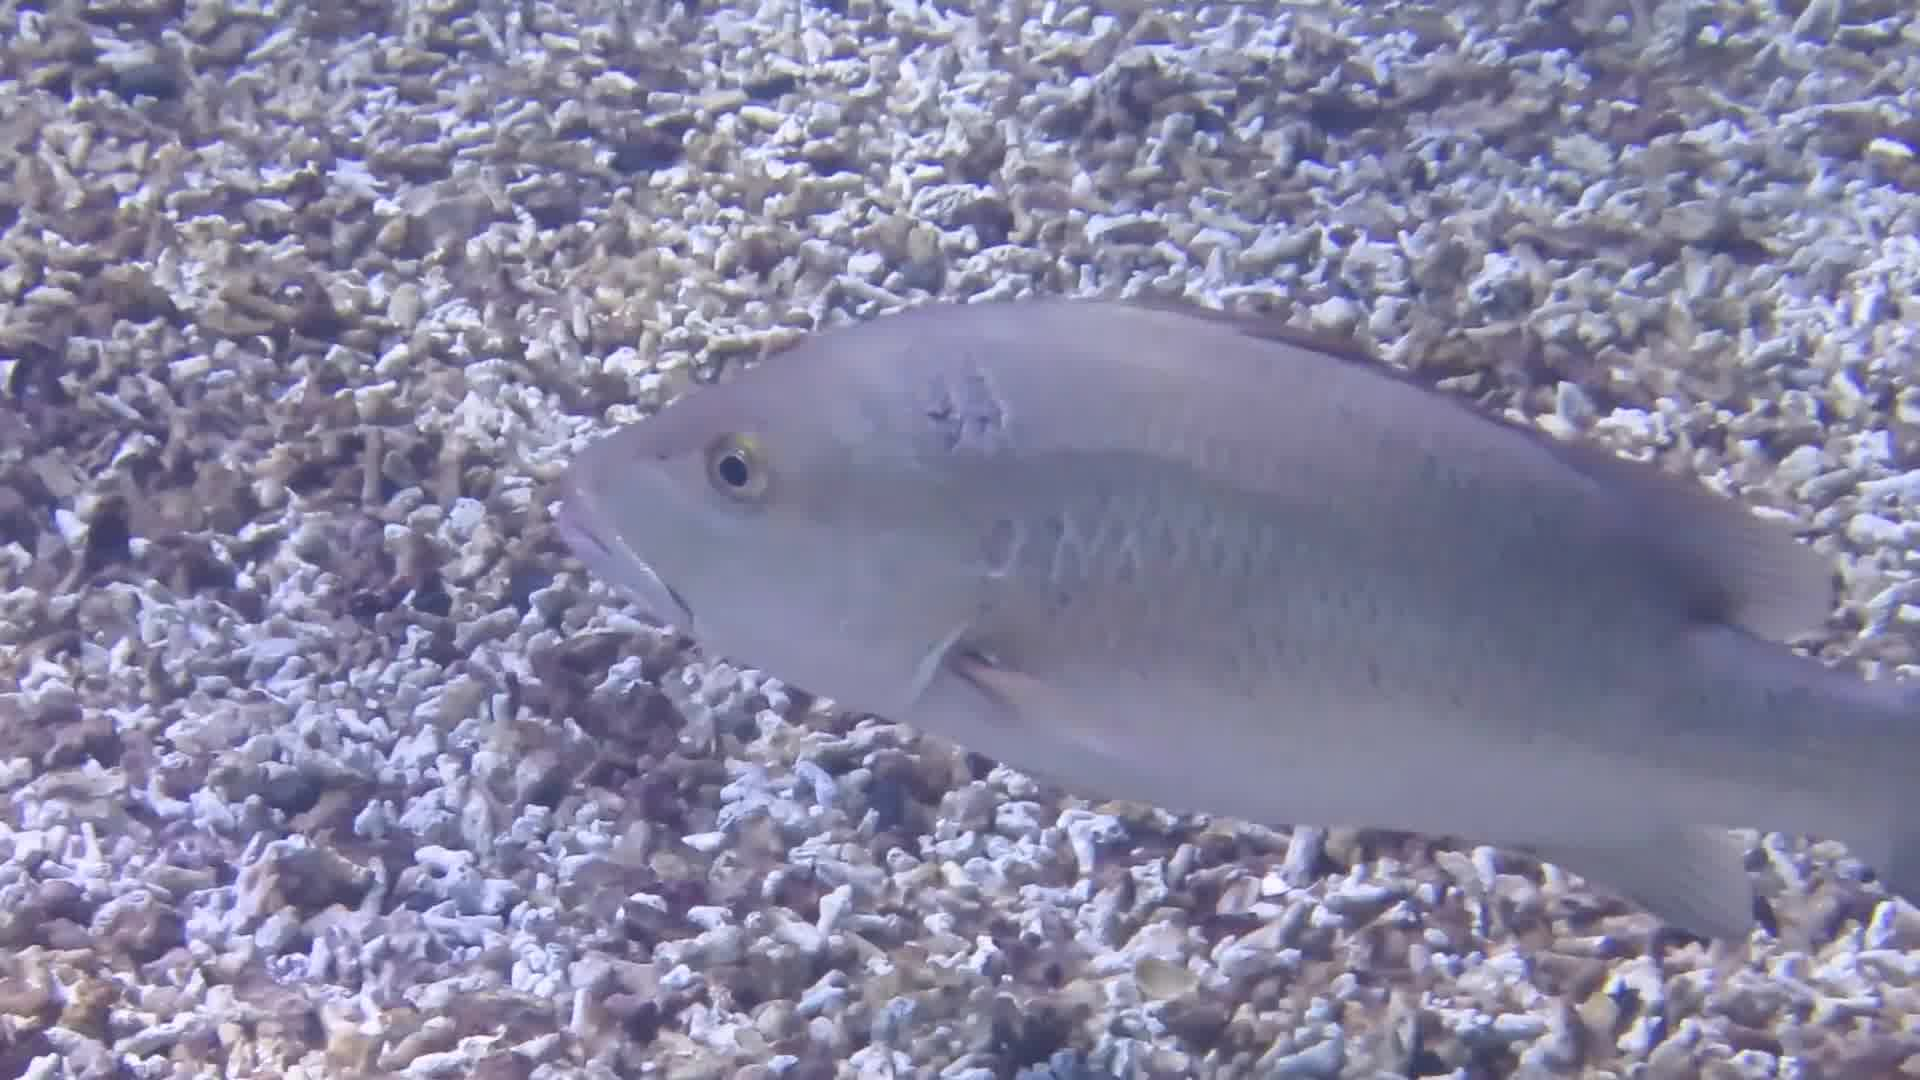Lutjanus argentimaculatus: (543, 291, 1851, 910)
